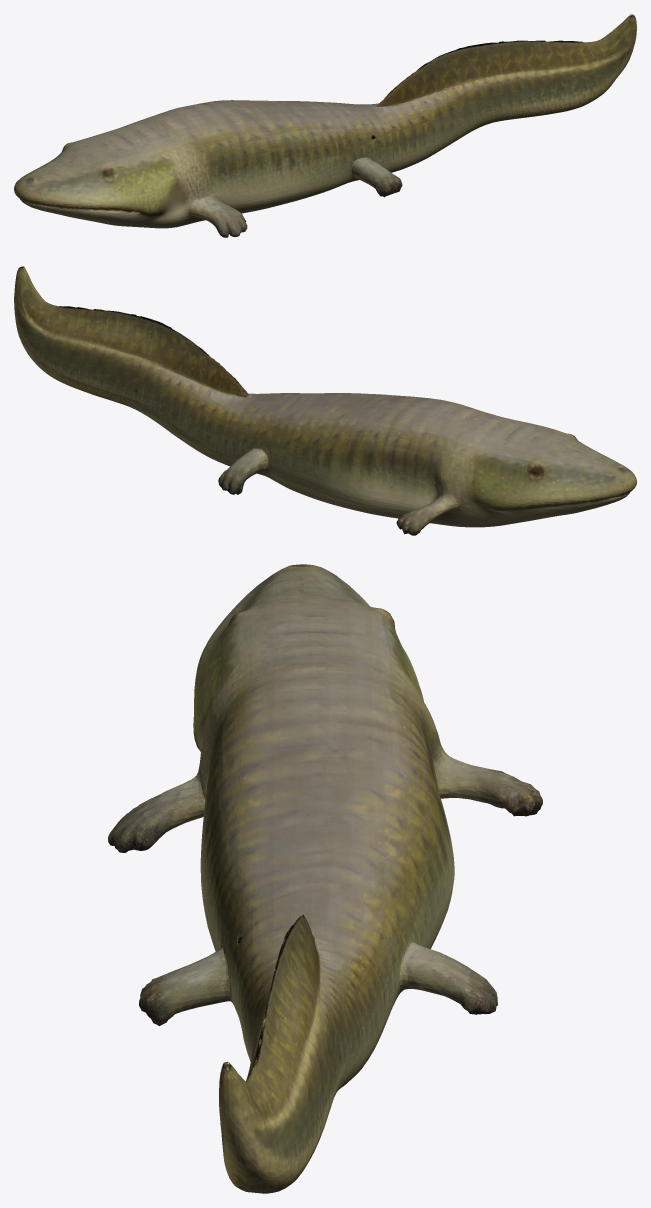
3 renders of one model, top to bottom at view 1: azimuth 30°, elevation 25°; view 2: azimuth 150°, elevation 25°; view 3: azimuth 270°, elevation 25°, orthographic. The views are drawn at different scales.
Parts seen in each view (by area): view 1: world; view 2: world; view 3: world.
Part boxes in pixels (left/top/right/bottom): world: left=14, top=14, right=636, bottom=237; world: left=14, top=266, right=636, bottom=535; world: left=108, top=564, right=542, bottom=1193.
Size of the model in its own units: 0.9866 by 0.1831 by 0.3095.
2 materials, 2 textured.
